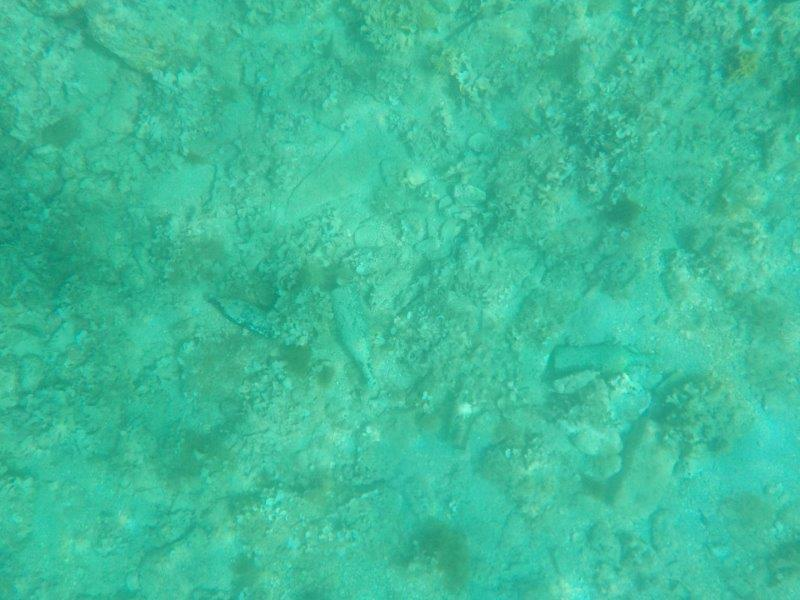bottle: (328, 284, 386, 391), (200, 289, 294, 345), (549, 342, 662, 383)
